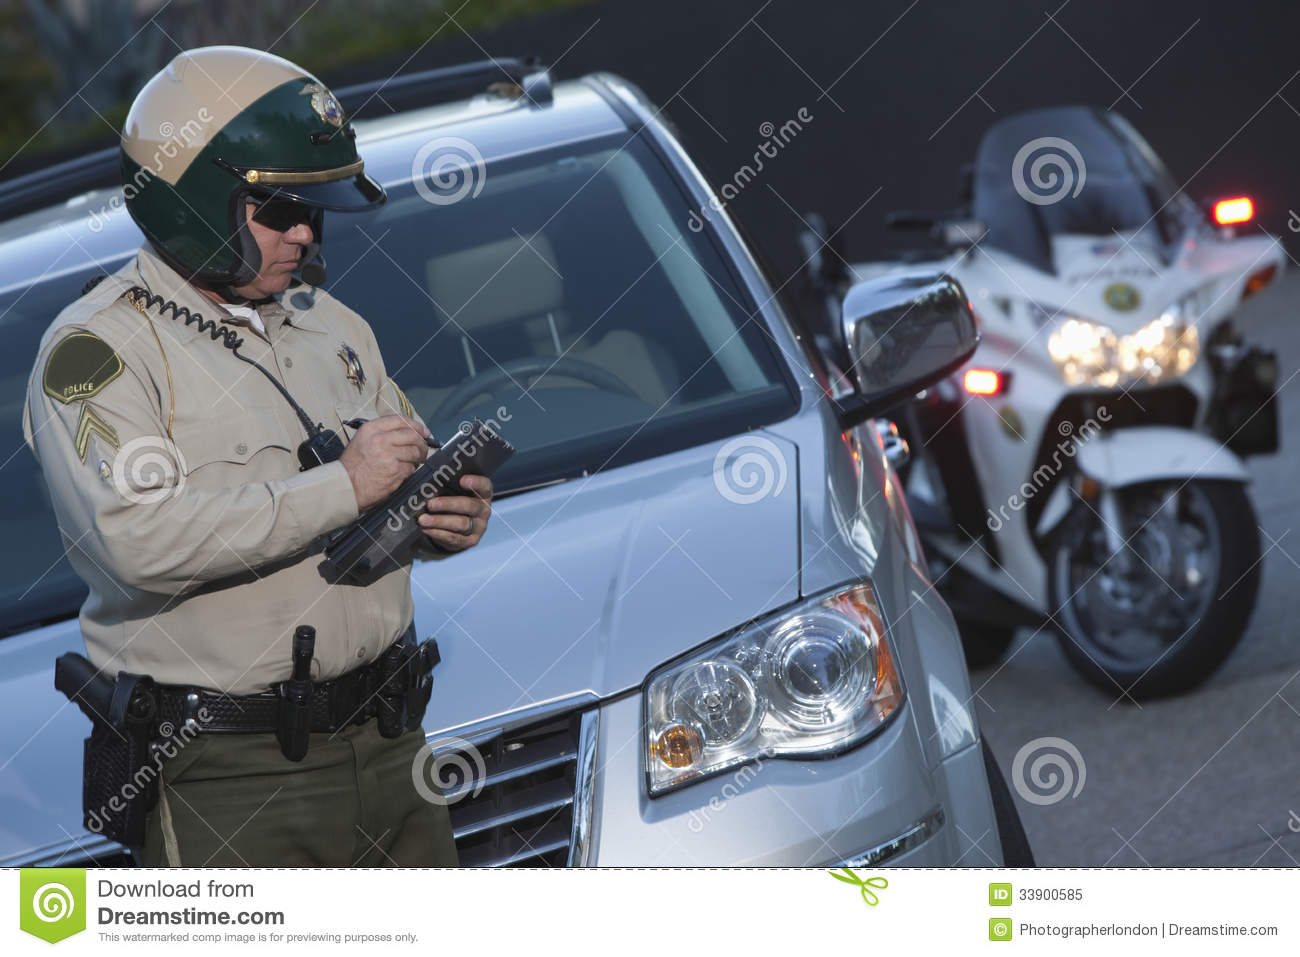helmet: (127, 55, 362, 276)
